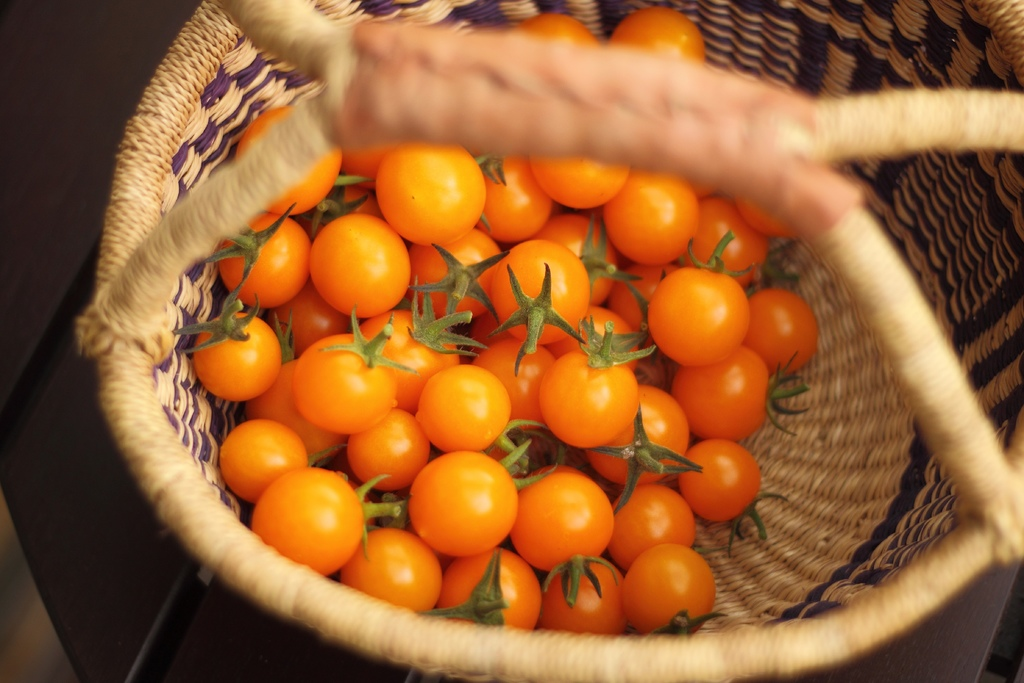Tomato: (177, 151, 819, 633), (648, 258, 754, 368), (236, 115, 346, 210), (620, 7, 708, 67), (496, 14, 603, 44)
